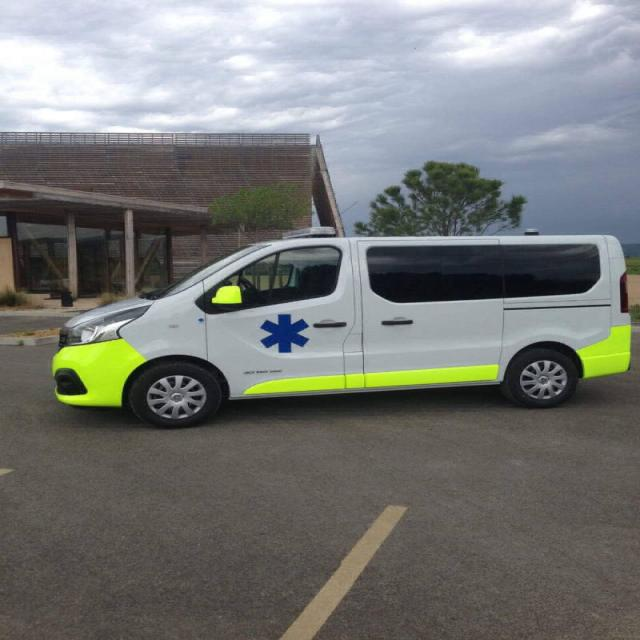ambulance: (62, 217, 640, 434)
